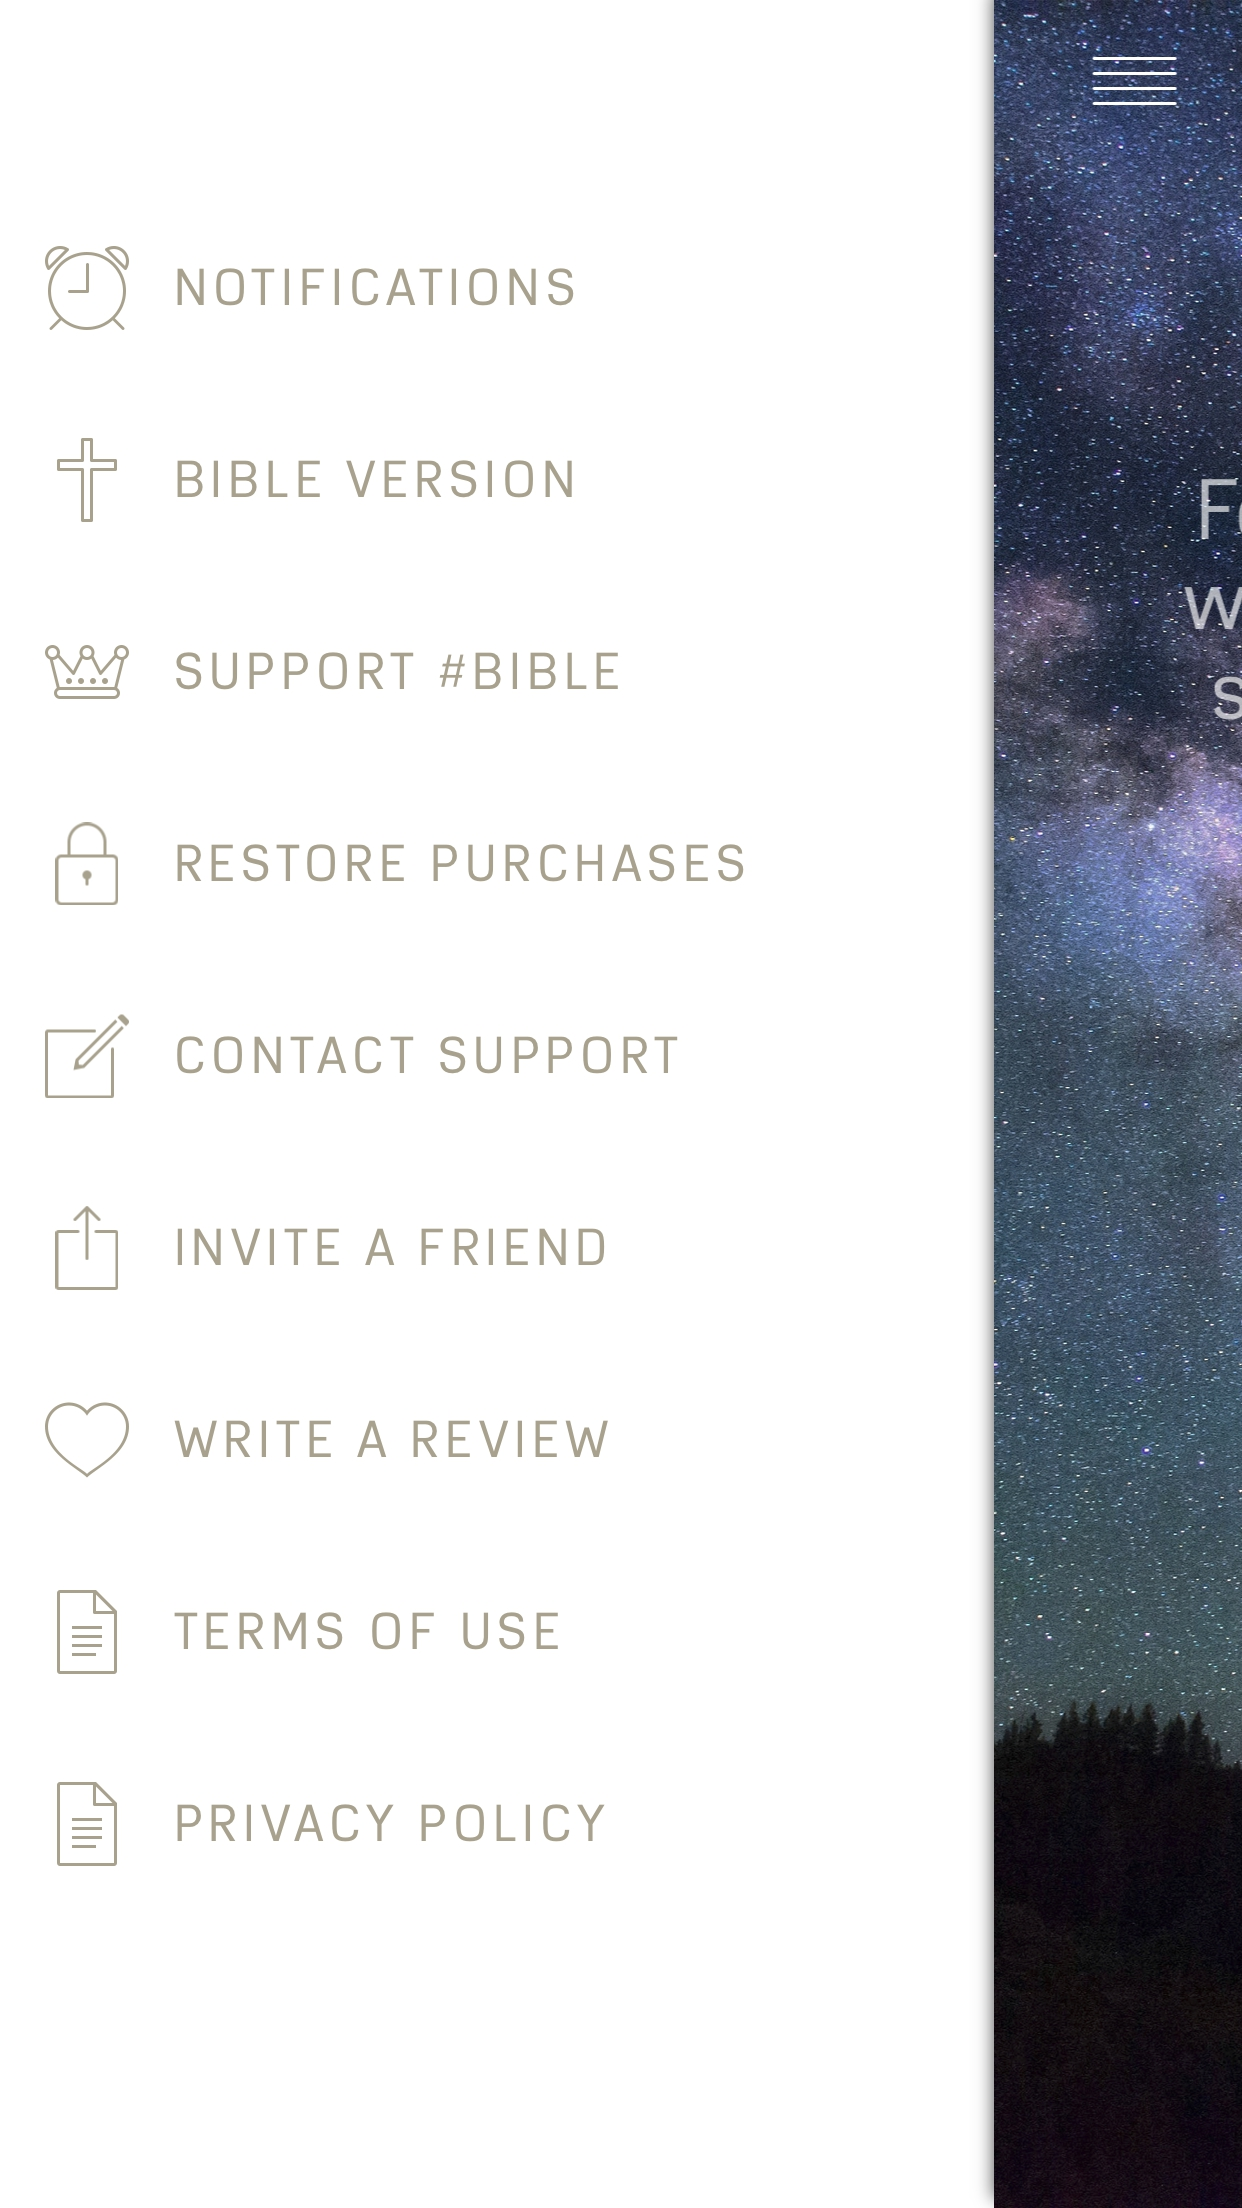Drawer: (2, 2, 995, 2208)
Icon: (45, 1015, 130, 1099), (45, 246, 130, 331), (45, 1403, 130, 1479), (55, 1206, 120, 1291), (56, 1589, 118, 1676), (55, 823, 120, 905), (58, 1780, 118, 1867), (1092, 56, 1178, 108)
Image: (58, 438, 118, 525), (44, 645, 130, 701)
Text: (177, 845, 745, 883), (176, 1036, 676, 1075), (176, 652, 619, 692), (174, 1419, 610, 1459), (177, 1803, 605, 1843), (177, 1228, 607, 1266), (177, 459, 573, 500), (174, 1611, 560, 1651), (177, 267, 575, 306)
